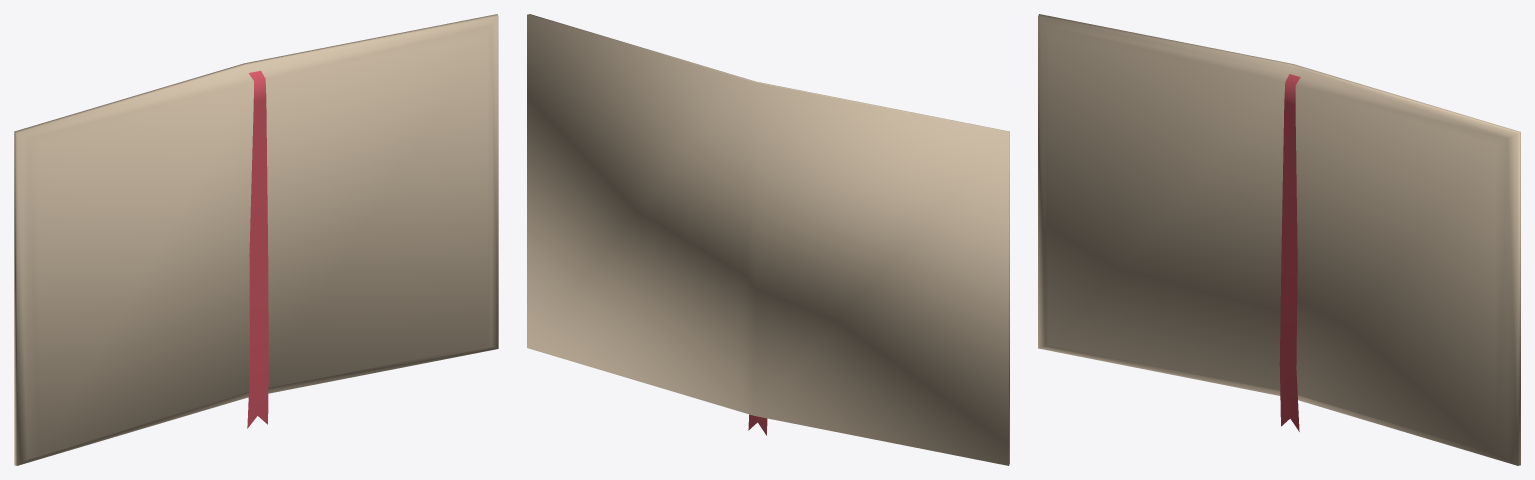
The model's file is NoteBookP6.fbx.
3 renders of one model, left to right at view 1: azimuth 30°, elevation 25°; view 2: azimuth 150°, elevation 25°; view 3: azimuth 330°, elevation 25°, orthographic.
Visible parts, largest first — view 1: Book; view 2: Book; view 3: Book.
Boxes of the visible parts, x1,y1,x2,y2 form: Book: (14,14,498,465); Book: (527,14,1009,465); Book: (1038,14,1520,465).
Size of the model in its own units: 0.2035 by 0.1445 by 0.015.
